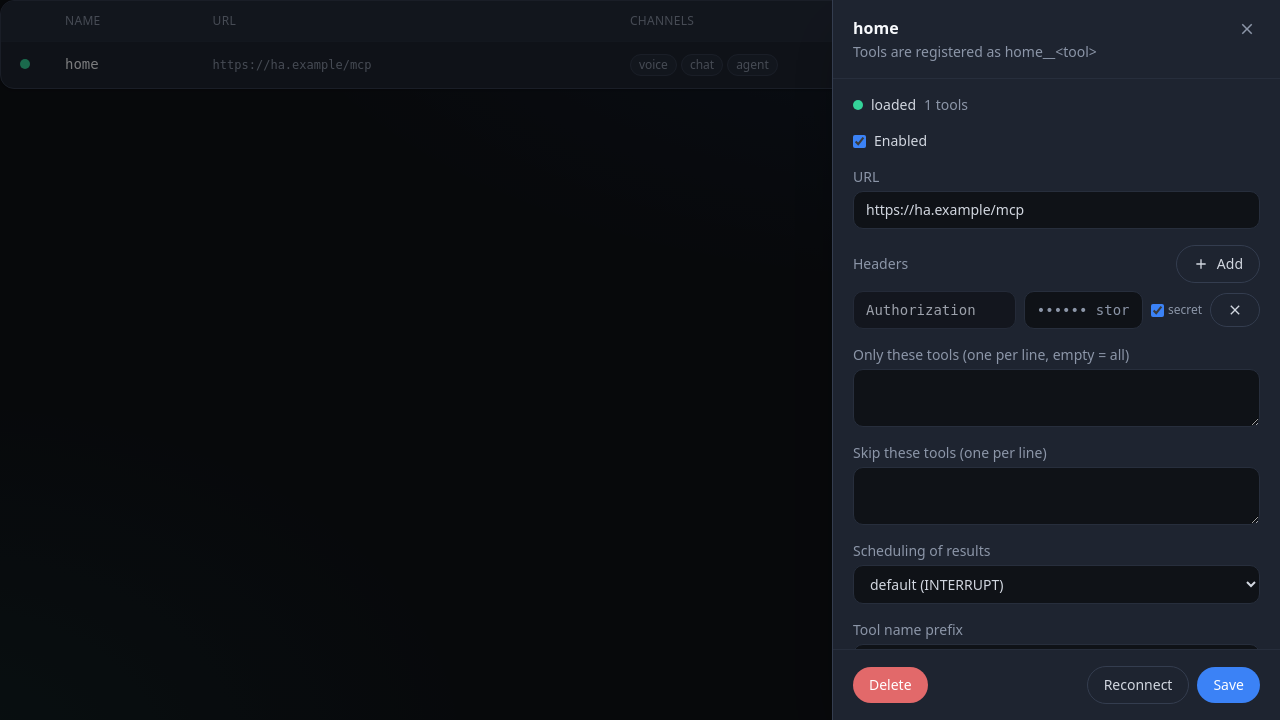
McpServersTab › a saved server keeps the drawer open on it with its new status
Click the button "Save".
click(1229, 685)  # box [1197,667,1260,703]
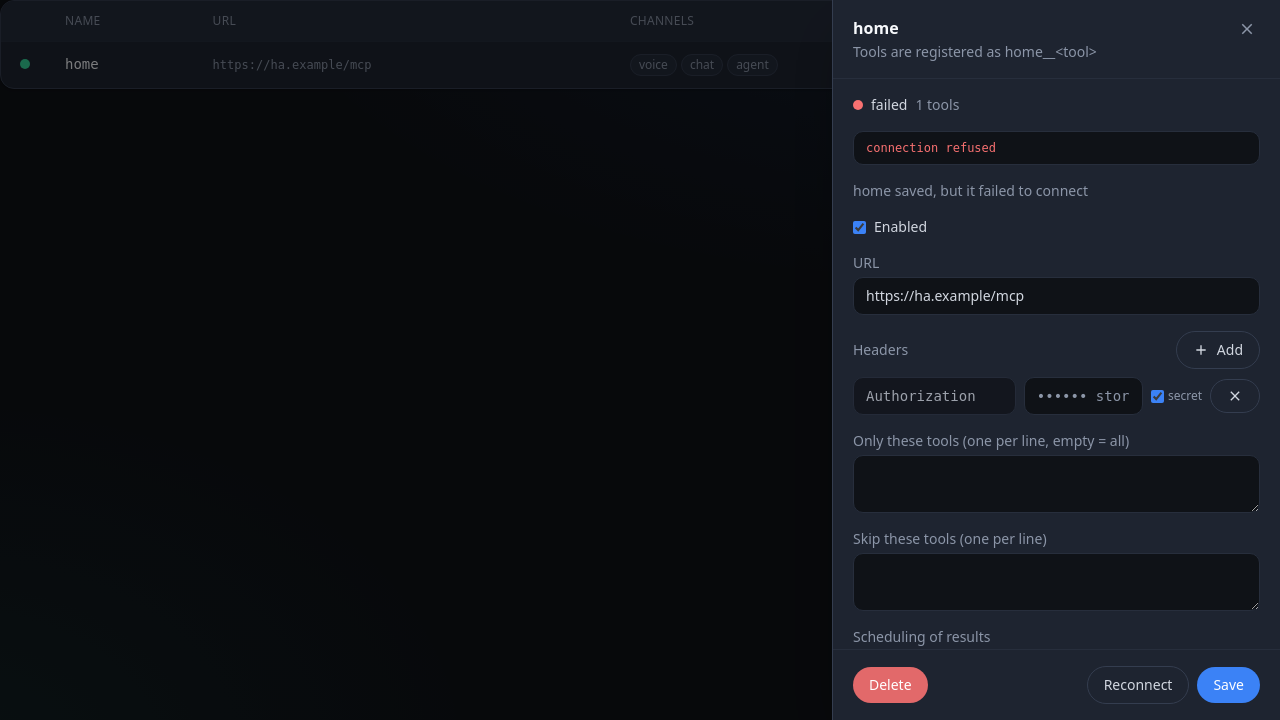
Expected: the dialog shows "home saved, but it failed to connect", [853,181,1088,200]
